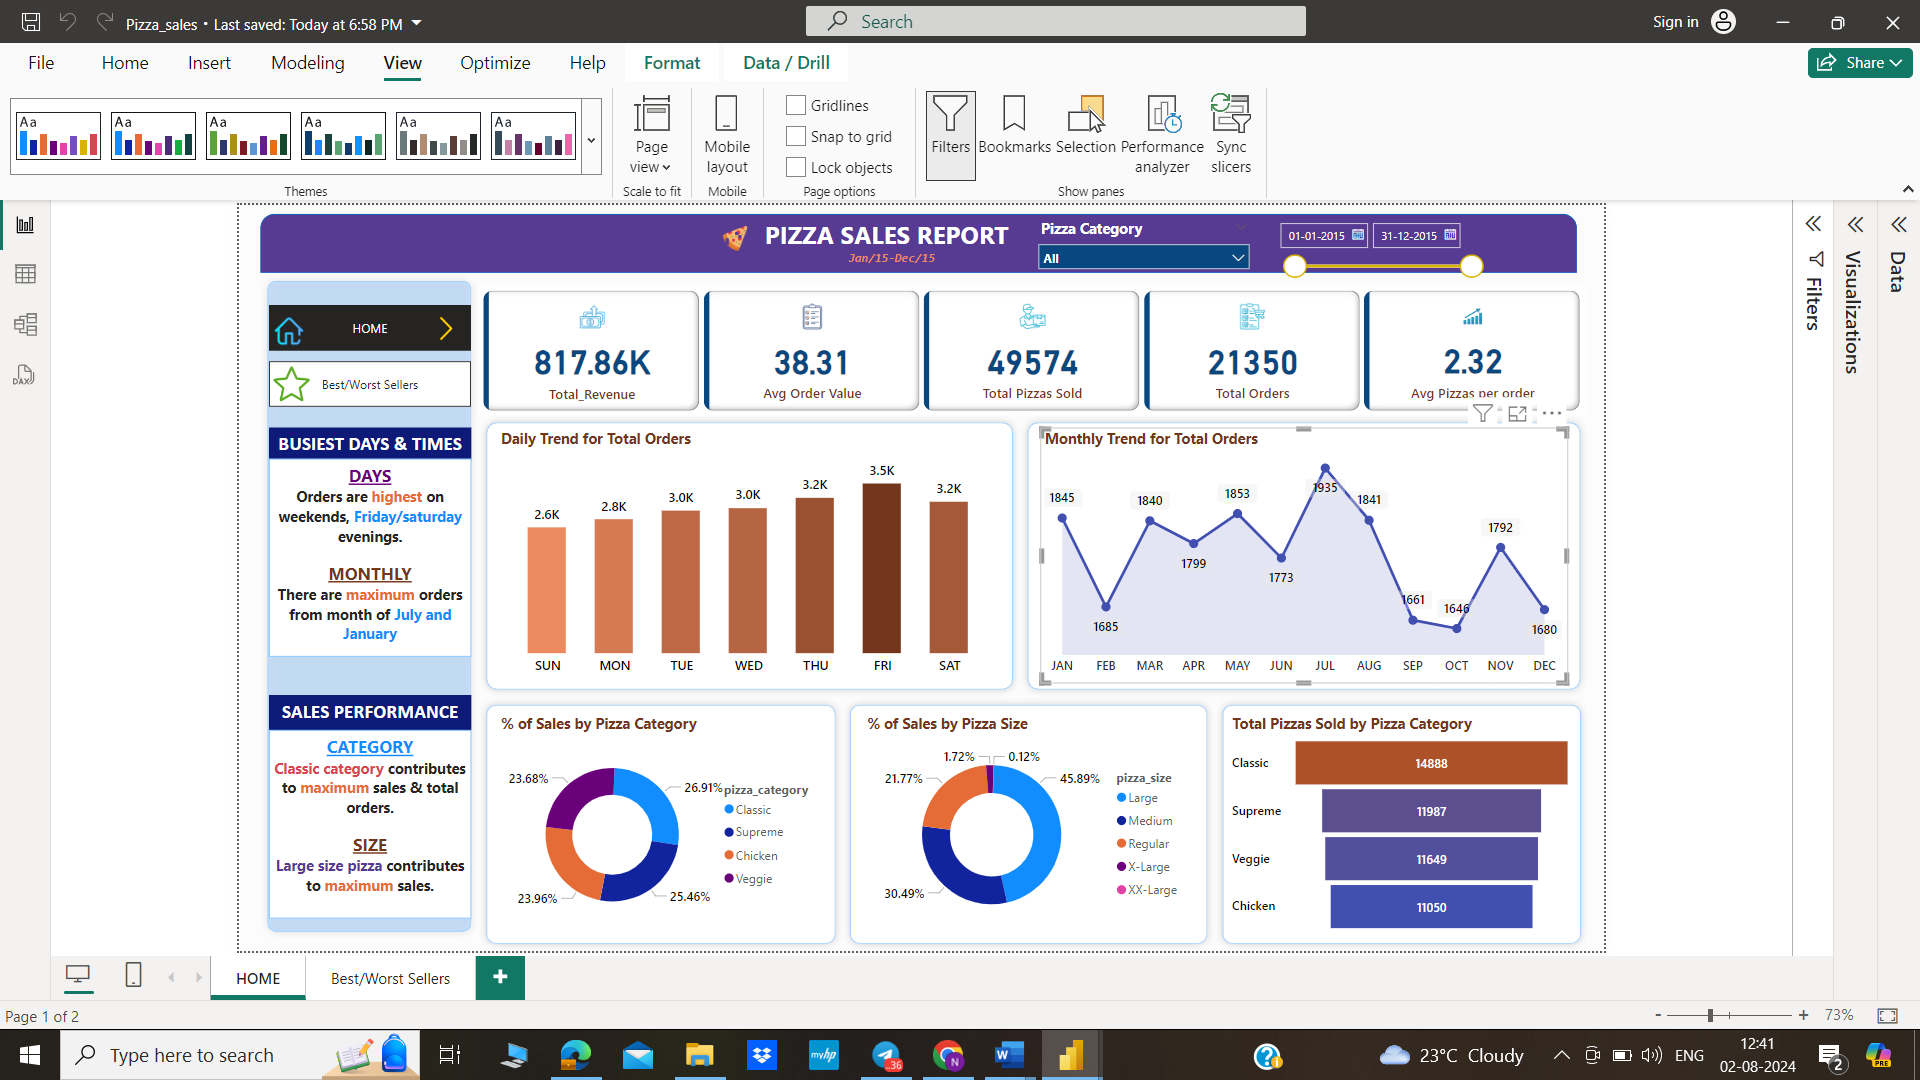

The dashboard page shown, as its layout file describes it:
{"tool":"powerbi","page":{"name":"HOME","canvas":[1500,820],"ordinal":0},"visuals":[{"type":"cardVisual","fields":{"Data":["pizza_sales.Total_Revenue","pizza_sales.Avg Order Value","pizza_sales.Total Pizzas Sold","pizza_sales.Total Orders","pizza_sales.Avg Pizzas per order"]},"box":[263.8,88.8,1218.8,142.5],"z":0},{"type":"shape","box":[23.8,10,1447.5,65],"z":1000},{"type":"textbox","box":[572.5,10,286.2,56.2],"z":2000},{"type":"textbox","box":[655,43.8,123.8,45],"z":3000},{"type":"image","box":[520,17.5,52.5,37.5],"z":4000},{"type":"shape","box":[263.8,231.2,595,310],"z":5000},{"type":"columnChart","title":"Daily Trend for Total Orders","fields":{"Category":["pizza_sales.Order Day"],"Y":["pizza_sales.Total Orders"]},"box":[282.5,245,555,281.2],"z":6000},{"type":"shape","box":[858.8,231.2,623.8,310],"z":7000},{"type":"areaChart","title":"Monthly Trend for Total Orders","fields":{"Category":["pizza_sales.Order Month"],"Y":["pizza_sales.Total Orders"]},"box":[881.2,245,578.8,281.2],"z":8000},{"type":"shape","box":[263.8,541.2,400,278.8],"z":9000},{"type":"shape","box":[663.8,541.2,408.8,278.8],"z":10000},{"type":"shape","box":[1072.5,541.2,410,278.8],"z":11000},{"type":"donutChart","title":"% of Sales by Pizza Size","fields":{"Category":["pizza_sales.pizza_size"],"Y":["pizza_sales.Total_Revenue"]},"box":[686.2,557.5,363.8,247.5],"z":12000},{"type":"funnel","title":"Total Pizzas Sold by Pizza Category","fields":{"Category":["pizza_sales.pizza_category"],"Y":["pizza_sales.Total Pizzas Sold"]},"box":[1087.5,557.5,383.8,247.5],"z":13000},{"type":"shape","box":[23.8,75,240,731.2],"z":14000},{"type":"textbox","box":[32.5,245,222.5,36.2],"z":15000},{"type":"textbox","box":[32.5,278.8,222.5,217.5],"z":16000},{"type":"textbox","box":[32.5,538.8,222.5,38.8],"z":17000},{"type":"textbox","box":[32.5,577.5,222.5,207.5],"z":18000},{"type":"donutChart","title":"% of Sales by Pizza Category","fields":{"Category":["pizza_sales.pizza_category"],"Y":["pizza_sales.Total_Revenue"]},"box":[282.5,557.5,363.8,247.5],"z":19000},{"type":"slicer","fields":{"Values":["pizza_sales.pizza_category"]},"box":[868.8,10,252.5,65],"z":20000},{"type":"slicer","fields":{"Values":["pizza_sales.order_date"]},"box":[1132.5,10,243.8,78.8],"z":21000},{"type":"pageNavigator","box":[32.5,110,222.5,50],"z":22000},{"type":"pageNavigator","box":[32.5,171.2,222.5,50],"z":23000},{"type":"image","box":[201.2,117.5,53.8,35],"z":24000},{"type":"image","box":[32.5,118.8,43.8,41.2],"z":25000},{"type":"image","box":[32.5,171.2,50,50],"z":26000}]}

Visuals, with their boxes on the page's 1500x820 design canvas (x1, y1, x2, y2). These are canvas units, not pixel positions in the 1920x1080 screenshot, which may show the page scaled, cropped or inside an application window:
cardVisual - pizza_sales.Total_Revenue x pizza_sales.Avg Order Value: [left=264, top=89, right=1483, bottom=231]
shape: [left=24, top=10, right=1471, bottom=75]
textbox: [left=572, top=10, right=859, bottom=66]
textbox: [left=655, top=44, right=779, bottom=89]
image: [left=520, top=18, right=572, bottom=55]
shape: [left=264, top=231, right=859, bottom=541]
"Daily Trend for Total Orders" columnChart: [left=282, top=245, right=838, bottom=526]
shape: [left=859, top=231, right=1483, bottom=541]
"Monthly Trend for Total Orders" areaChart: [left=881, top=245, right=1460, bottom=526]
shape: [left=264, top=541, right=664, bottom=820]
shape: [left=664, top=541, right=1073, bottom=820]
shape: [left=1072, top=541, right=1482, bottom=820]
"% of Sales by Pizza Size" donutChart: [left=686, top=558, right=1050, bottom=805]
"Total Pizzas Sold by Pizza Category" funnel: [left=1088, top=558, right=1471, bottom=805]
shape: [left=24, top=75, right=264, bottom=806]
textbox: [left=32, top=245, right=255, bottom=281]
textbox: [left=32, top=279, right=255, bottom=496]
textbox: [left=32, top=539, right=255, bottom=578]
textbox: [left=32, top=578, right=255, bottom=785]
"% of Sales by Pizza Category" donutChart: [left=282, top=558, right=646, bottom=805]
slicer - pizza_sales.pizza_category: [left=869, top=10, right=1121, bottom=75]
slicer - pizza_sales.order_date: [left=1132, top=10, right=1376, bottom=89]
pageNavigator: [left=32, top=110, right=255, bottom=160]
pageNavigator: [left=32, top=171, right=255, bottom=221]
image: [left=201, top=118, right=255, bottom=152]
image: [left=32, top=119, right=76, bottom=160]
image: [left=32, top=171, right=82, bottom=221]
